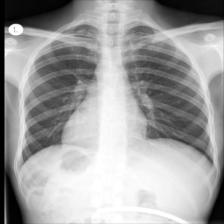normal: (15, 22, 218, 170)
